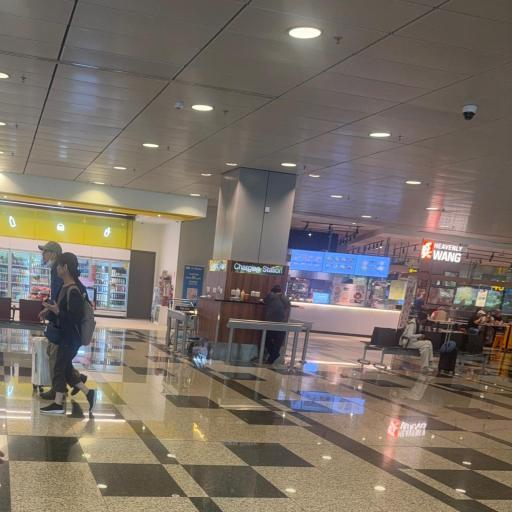person_left: (45, 258, 100, 434)
person_with_luggage_left: (20, 234, 99, 390)
